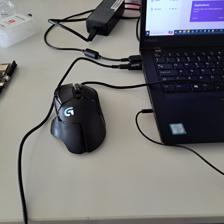mouse: (49, 80, 107, 155)
